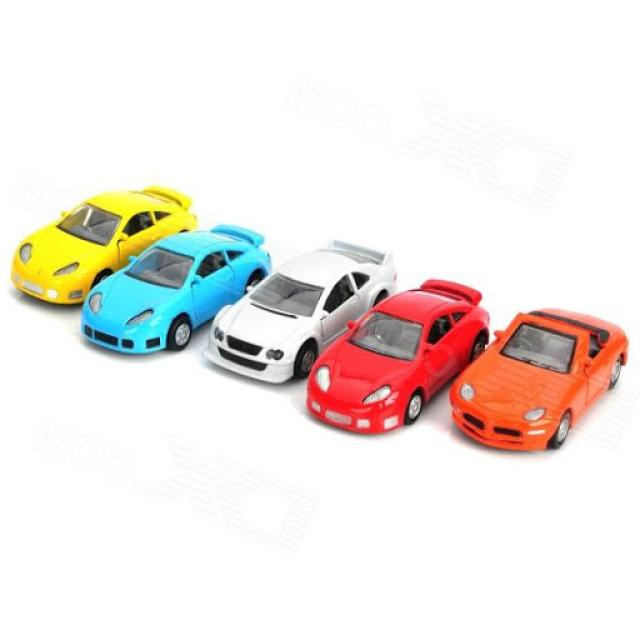Car: (306, 277, 492, 435), (204, 238, 398, 384), (450, 306, 630, 452), (81, 224, 272, 355), (11, 184, 200, 306)
